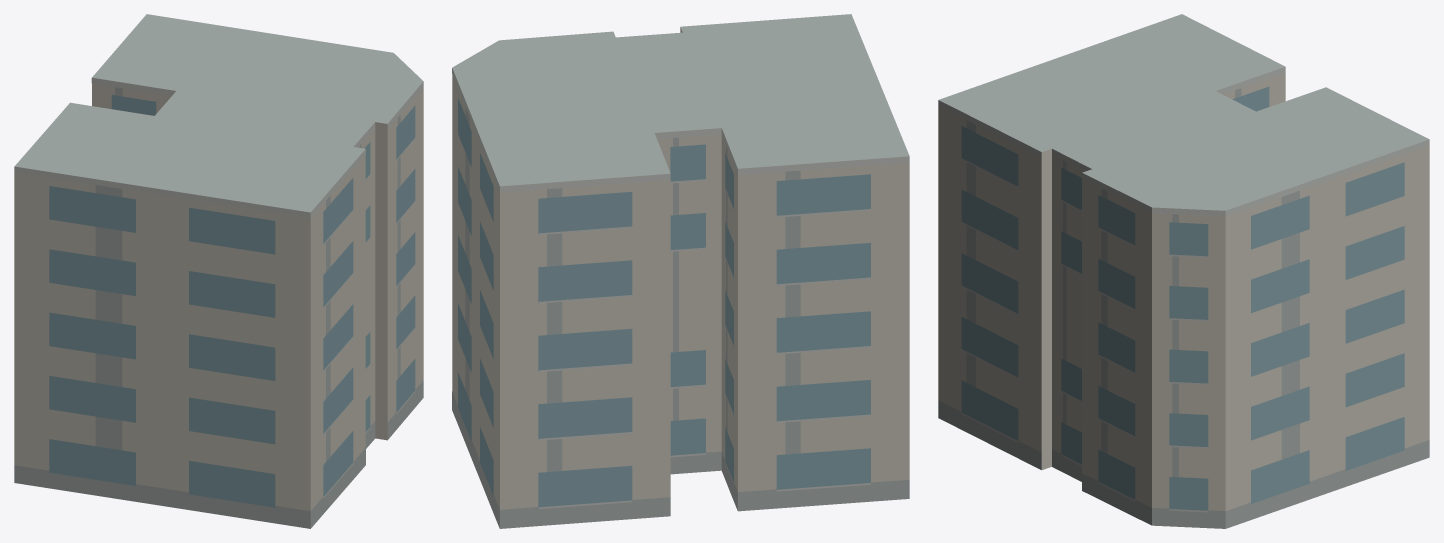
File: survey-upis-32833625.glb
The picture shows the model from 3 angles, left to right: view 1: azimuth 30°, elevation 25°; view 2: azimuth 150°, elevation 25°; view 3: azimuth 270°, elevation 25°; orthographic projection. The views are drawn at different scales.
Parts seen in each view (by area): view 1: survey-upis-32833625.tmp; view 2: survey-upis-32833625.tmp; view 3: survey-upis-32833625.tmp.
Part boxes in pixels (left/top/right/bottom): survey-upis-32833625.tmp: left=14, top=14, right=423, bottom=528; survey-upis-32833625.tmp: left=452, top=14, right=909, bottom=528; survey-upis-32833625.tmp: left=938, top=14, right=1429, bottom=528.
Bounding box in the file's own units: 17.65 × 13.3 × 18.62.
